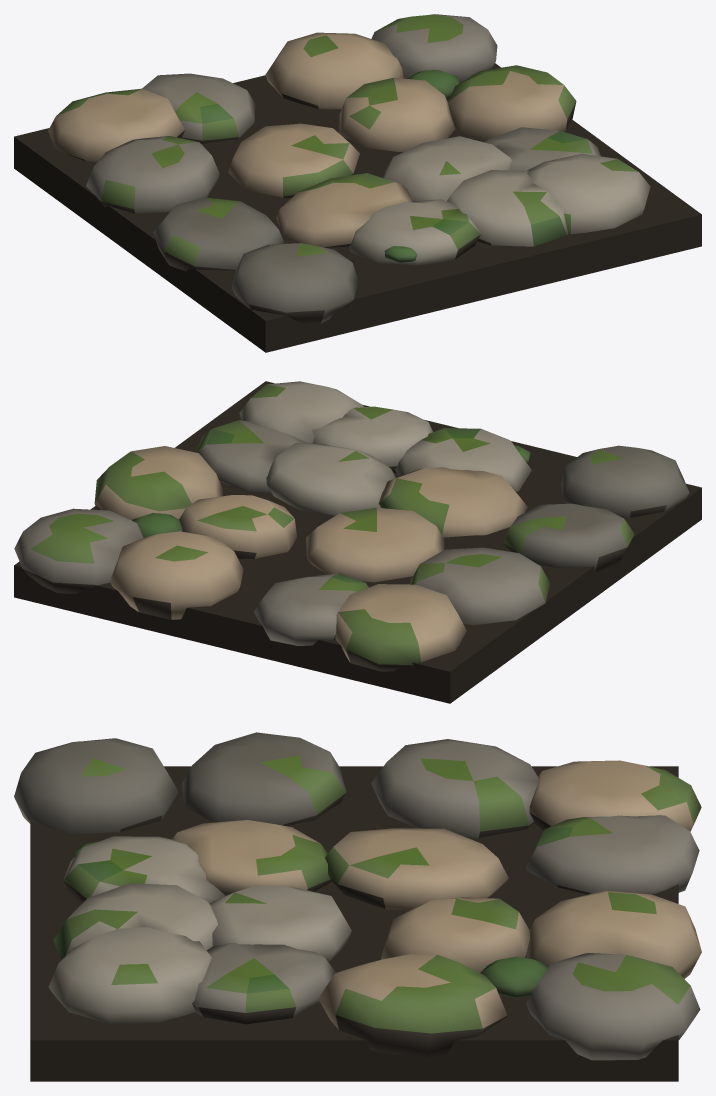
File: kit_floor2.glb
3 renders of one model, top to bottom at view 1: azimuth 30°, elevation 25°; view 2: azimuth 150°, elevation 25°; view 3: azimuth 270°, elevation 25°, orthographic. The views are drawn at different scales.
Visible parts, largest first — view 1: kit_floor2; view 2: kit_floor2; view 3: kit_floor2.
Part boxes in pixels (x1,y1,x2,y2): kit_floor2: (14,14,701,352); kit_floor2: (14,381,701,703); kit_floor2: (14,732,701,1081).
Size of the model in its own units: 1.06 by 0.1455 by 1.06.
